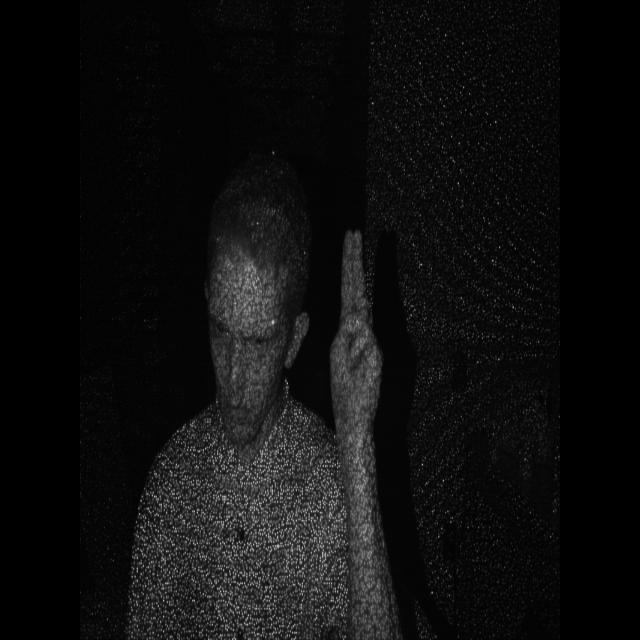U: (321, 221, 389, 449)
